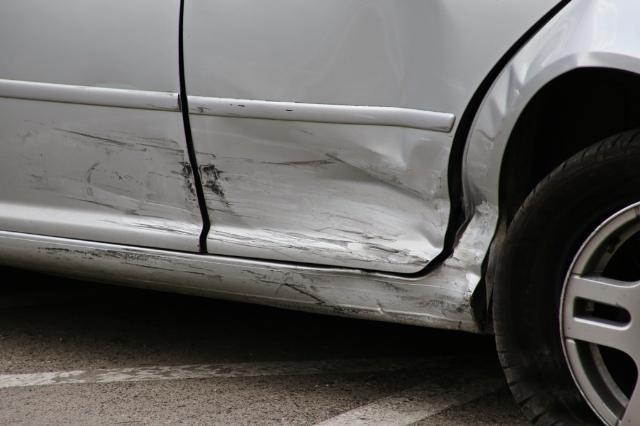dent: (445, 0, 614, 295), (207, 122, 448, 263), (349, 0, 452, 107)
dislocated part: (407, 0, 570, 284)
scratch: (35, 248, 479, 330), (12, 120, 205, 241), (196, 165, 281, 254)
